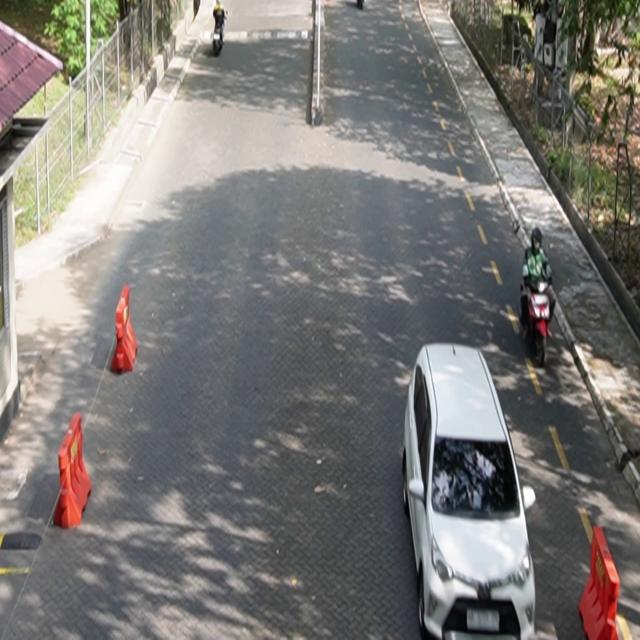car: (403, 343, 538, 640)
